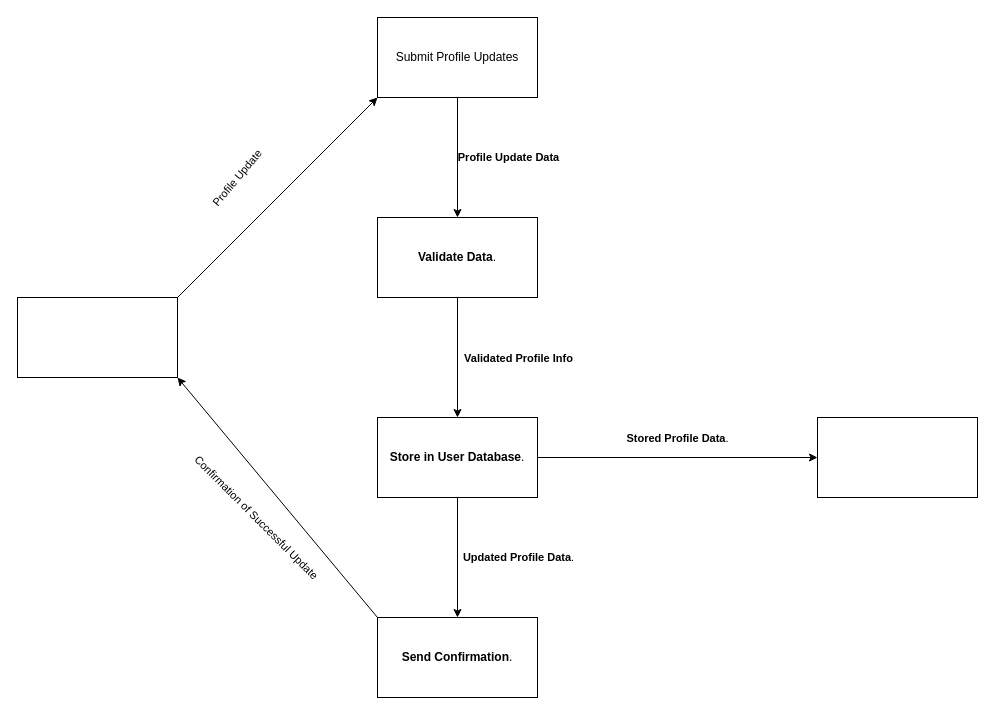
The diagram is 995 pixels wide and 715 high, and some of its shapes have lost their labels. The centre of each missing label's shape, as x and y in pixels:
"user" belongs at point 97,337.
"User Database ." belongs at point 897,457.
